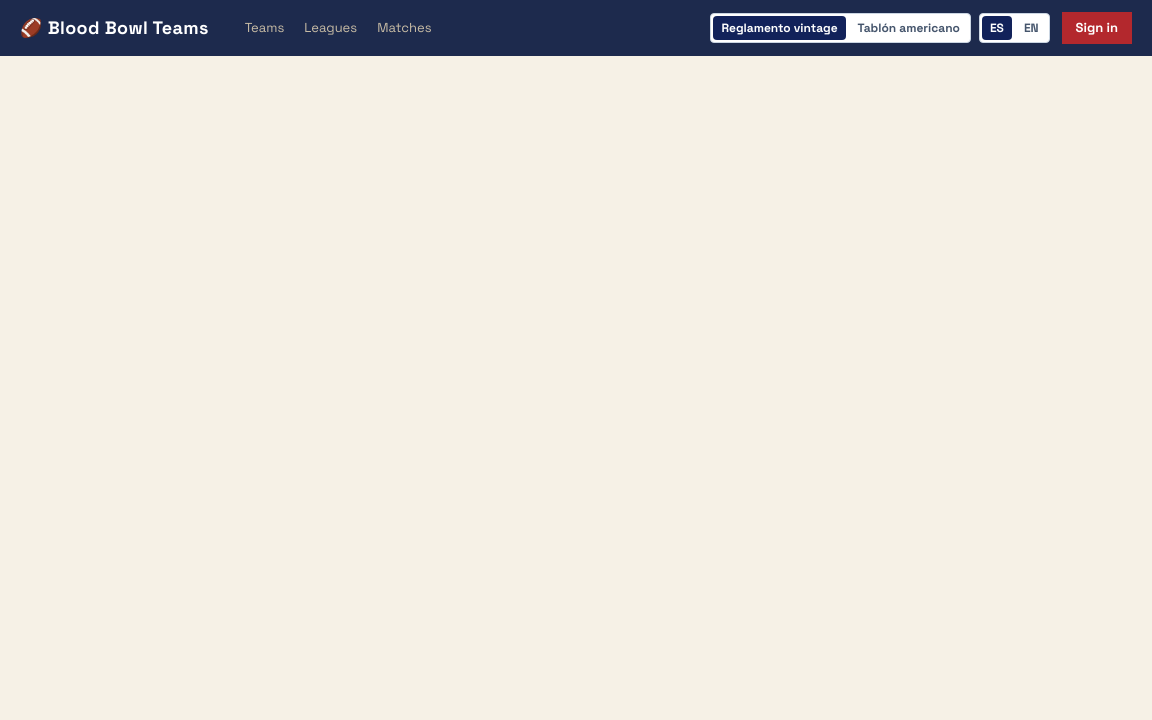
Scenario: AppNav public variant (landing) › renders the working section links (Teams + Leagues + Matches) and a Sign in button that opens the auth modal
The image size is (1152, 720).
Click the button "Sign in" at (1097, 28), box [1062,12,1132,44]
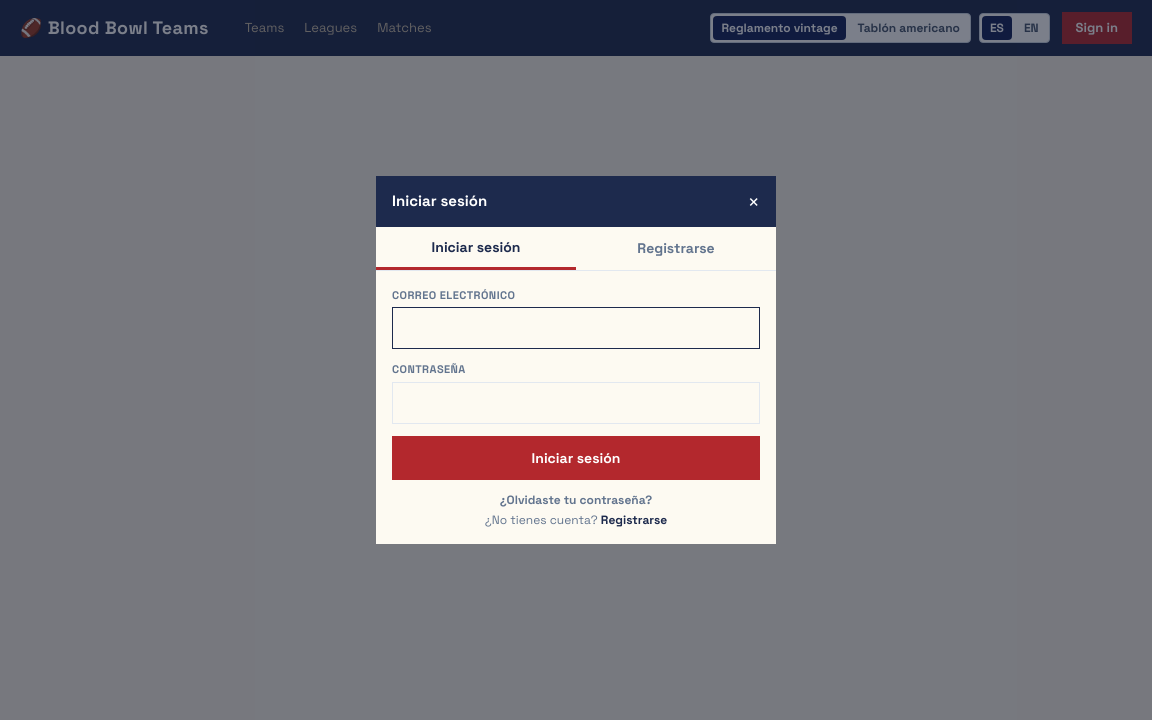
Check: the dialog "Iniciar sesión" is shown
